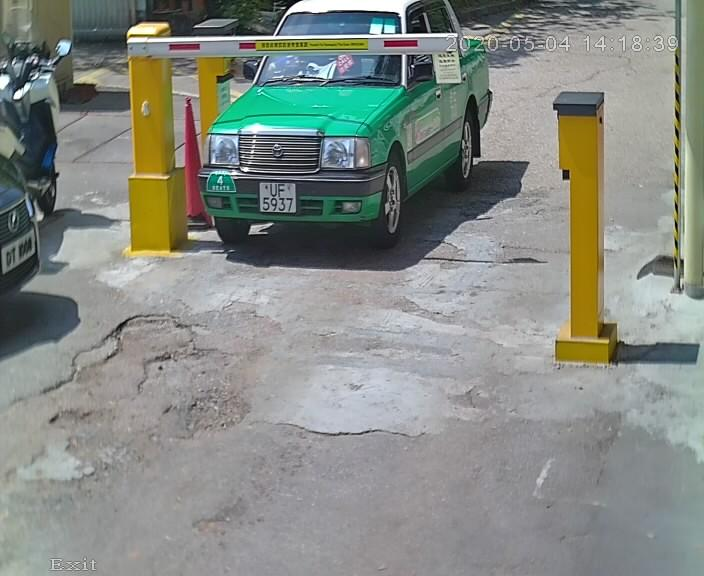Car: (187, 1, 500, 278)
License Plate: (251, 171, 305, 221)
